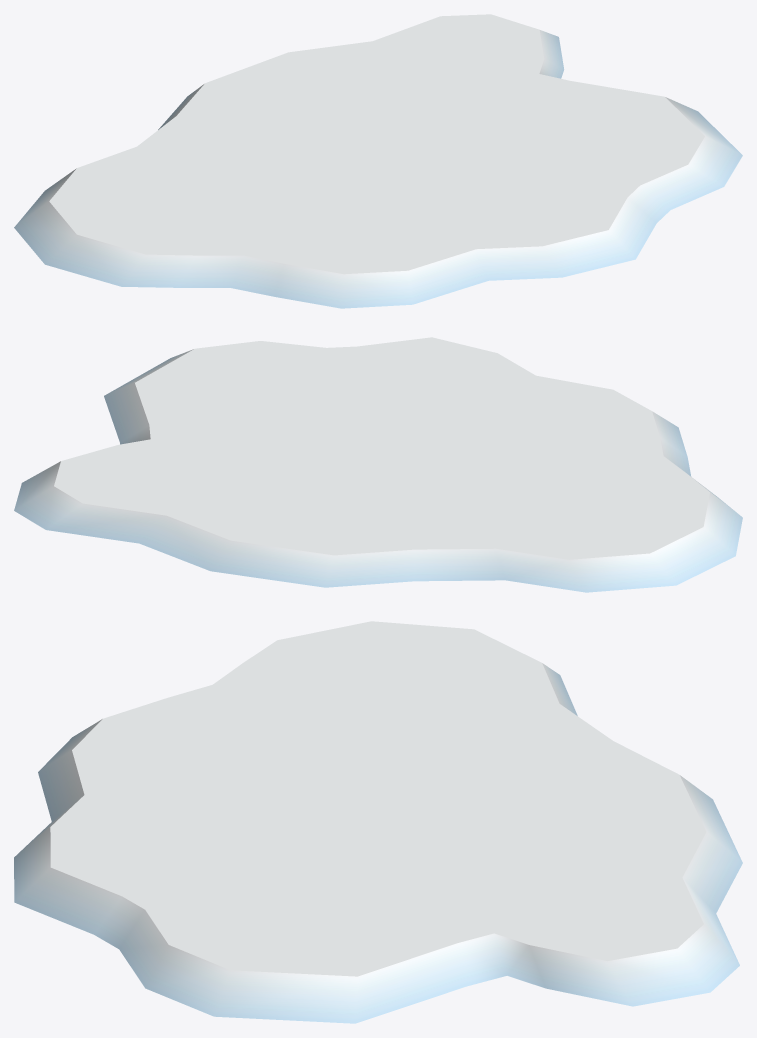
Rendered from kenney-holiday-snow-flat-large.glb.
3 renders of one model, top to bottom at view 1: azimuth 30°, elevation 25°; view 2: azimuth 150°, elevation 25°; view 3: azimuth 270°, elevation 25°, orthographic. The views are drawn at different scales.
Parts seen in each view (by area): view 1: snow-flat-large; view 2: snow-flat-large; view 3: snow-flat-large.
Boxes of the visible parts, <box> form: snow-flat-large: <box>14,14,742,308</box>; snow-flat-large: <box>14,337,742,592</box>; snow-flat-large: <box>14,621,742,1023</box>.
Size of the model in its own units: 3.09 by 0.1001 by 2.41.
1 material, 1 textured.
